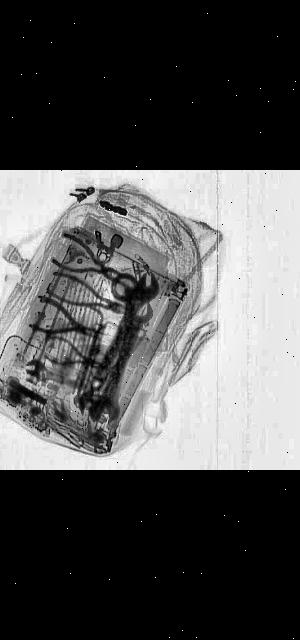Pliers: (30, 234, 153, 292), (31, 272, 145, 322), (14, 298, 120, 348), (32, 336, 118, 376)
Wrench: (74, 271, 170, 394), (85, 302, 159, 424), (14, 358, 98, 396)
